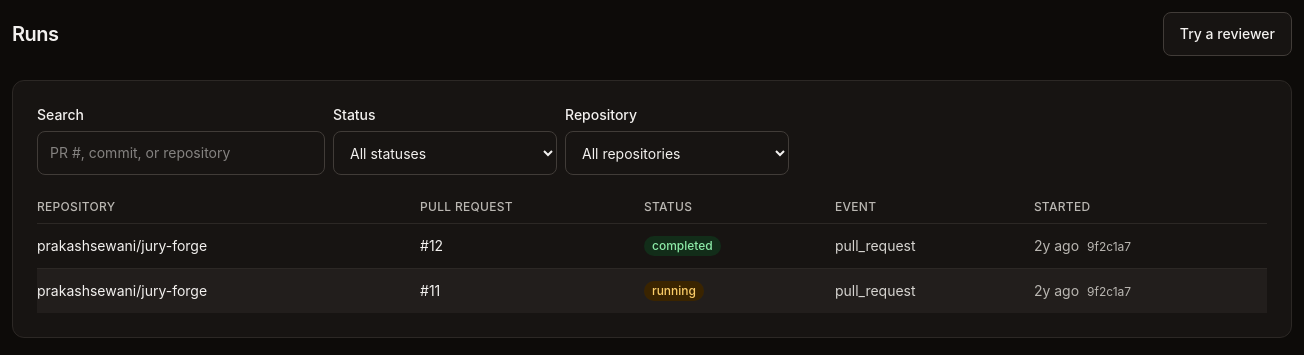
Test: RunsPage › filters the table by status
The width and height of the screenshot is (1304, 355).
Expected: the text "completed" is shown, [644,236,721,256]
Expected: the text "running" is shown, [644,281,704,301]
Step 1. Select "Running" in the dropdown labelled "Status" → (445, 153), box [333,131,557,175]
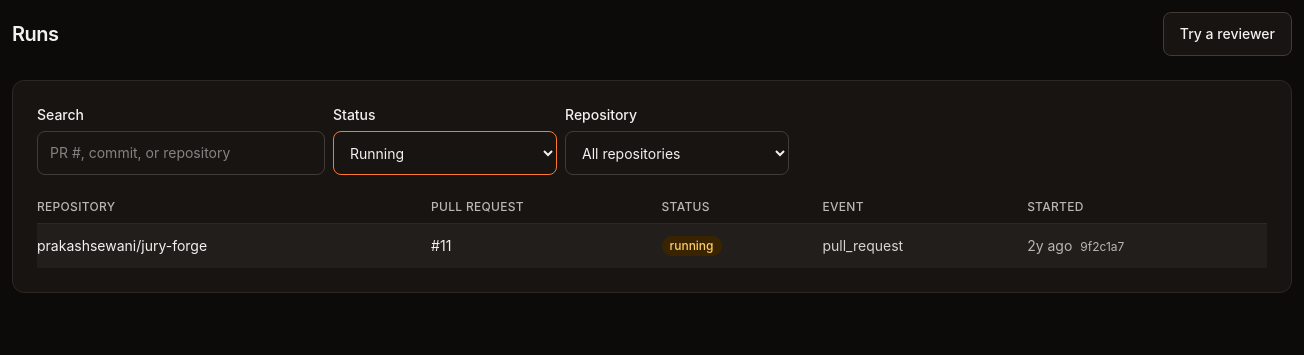
Expected: the text "running" is shown, [662,236,722,256]
Expected: the text "completed" is gone
